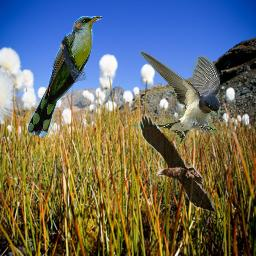Crow: (138, 114, 216, 214)
Cuckoo: (28, 16, 102, 137)
Swallow: (131, 49, 220, 144)
